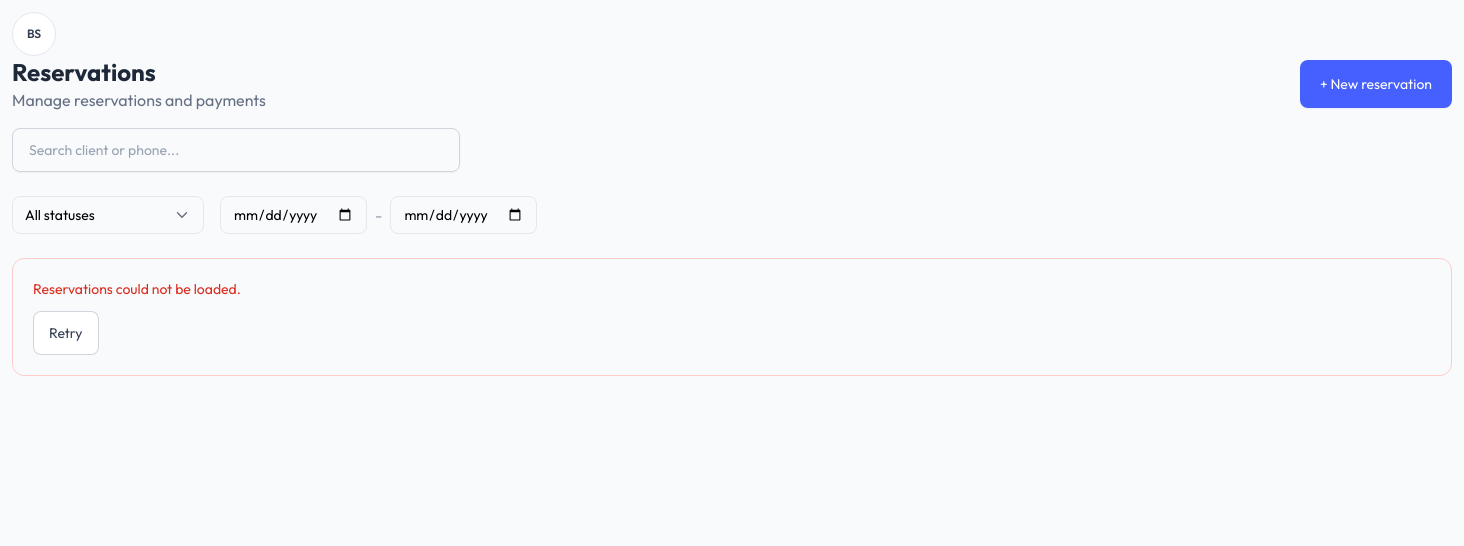
Test: shows a retryable read failure rather than a false empty result
Expected: the message "Reservations could not be loaded. Retry" is shown, x1=12 y1=258 x2=1452 y2=376
Click the button "Retry": (66, 333) x1=33 y1=311 x2=99 y2=355
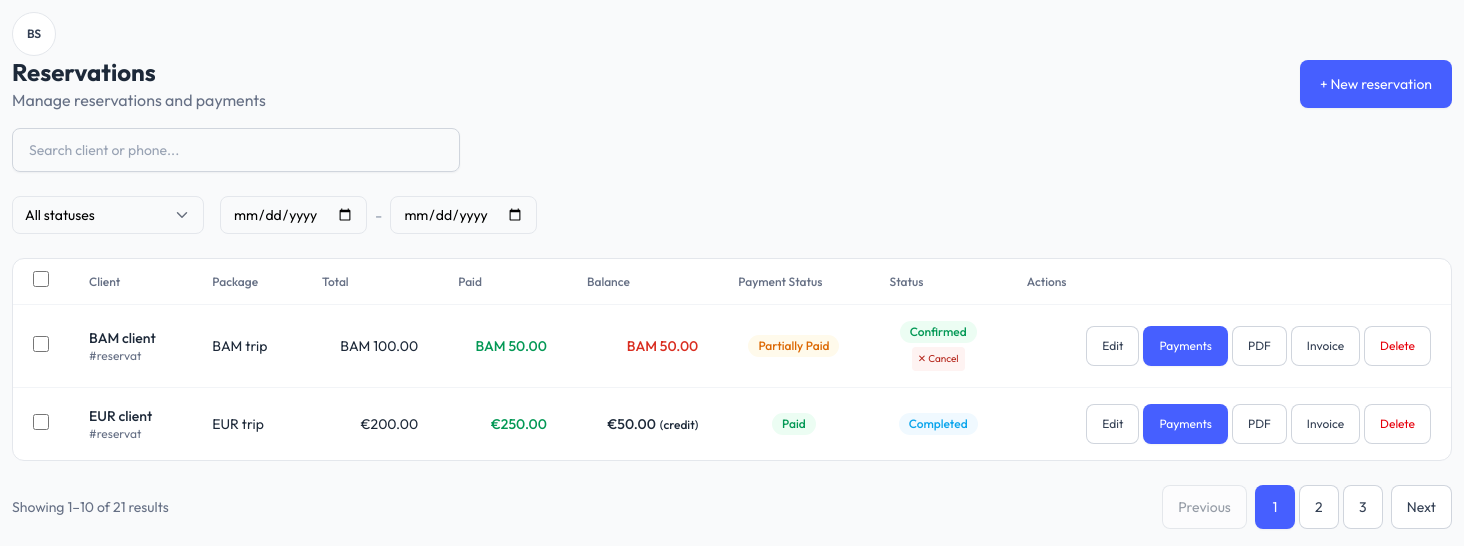
Now the text "EUR client" is shown, box x1=89 y1=407 x2=152 y2=425
Now the message "Reservations could not be loaded. Retry" is gone
